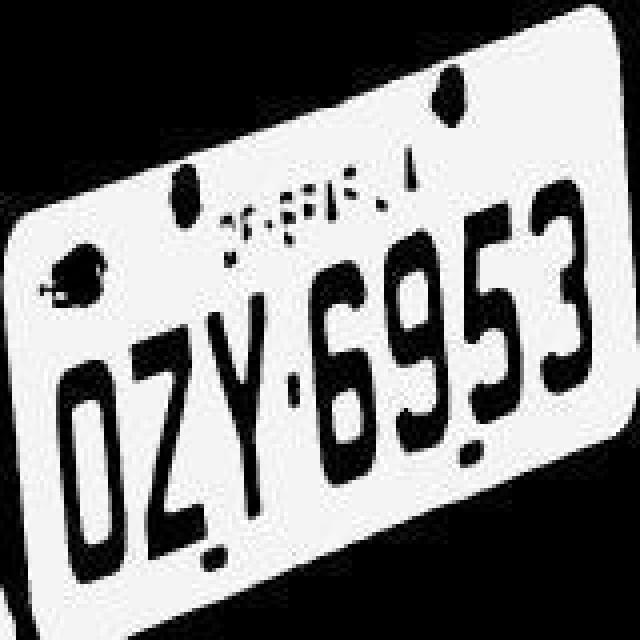3: (522, 158, 598, 418)
5: (454, 178, 530, 446)
6: (302, 254, 386, 514)
9: (386, 220, 454, 476)
O: (52, 344, 132, 592)
Y: (202, 282, 270, 534)
Z: (128, 304, 208, 560)
